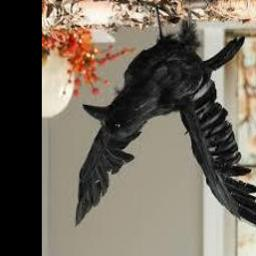Crow: (72, 6, 256, 236)
